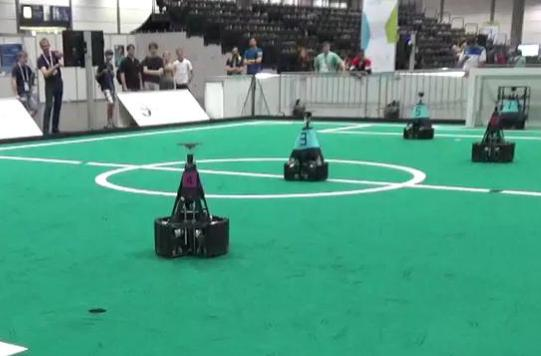robot: (152, 138, 232, 259), (275, 110, 338, 184), (471, 98, 519, 165), (397, 87, 439, 141)
